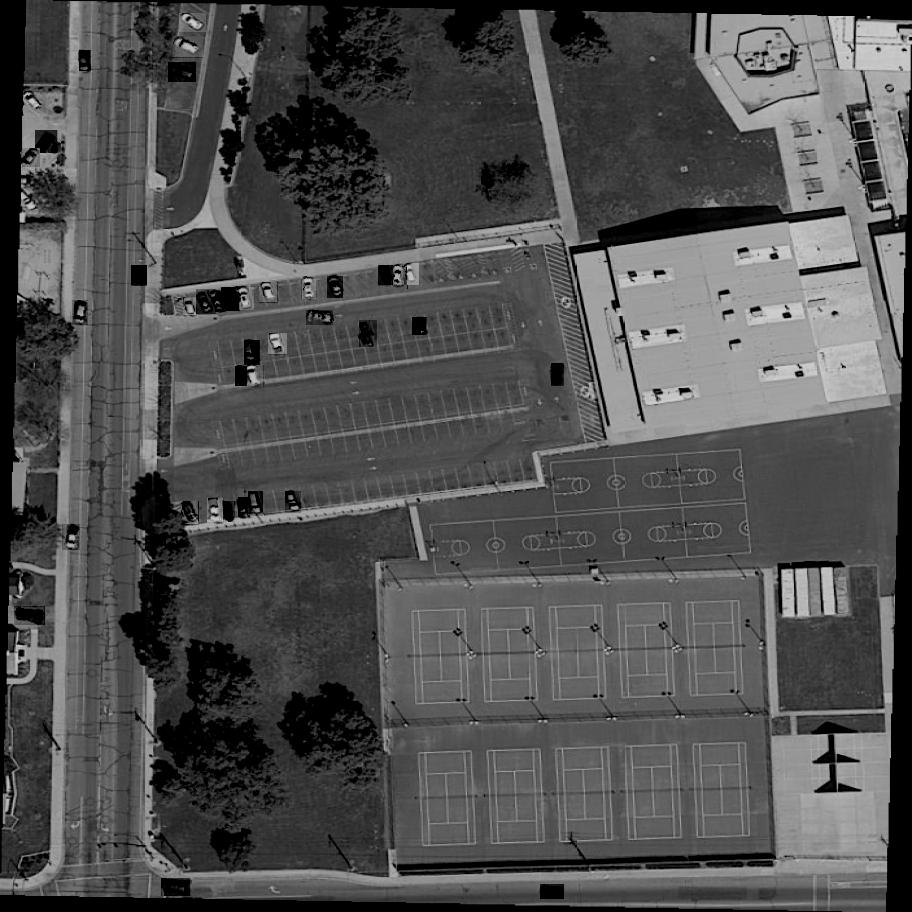small-vehicle: (172, 36, 203, 61), (14, 605, 46, 626), (179, 13, 207, 35), (162, 877, 192, 897), (35, 129, 58, 155), (24, 90, 47, 115), (169, 63, 196, 84), (196, 290, 217, 315), (222, 285, 241, 312), (235, 285, 254, 311), (62, 524, 80, 551), (267, 333, 287, 357), (360, 320, 377, 348), (181, 501, 200, 526), (207, 498, 225, 524), (306, 311, 334, 327), (248, 491, 265, 517), (259, 282, 279, 304), (209, 291, 227, 314), (392, 266, 409, 290), (286, 489, 302, 514), (245, 340, 261, 365), (23, 149, 41, 171), (248, 366, 266, 388), (541, 884, 564, 901), (327, 276, 344, 299), (73, 301, 89, 325), (131, 265, 148, 287), (405, 264, 422, 286), (183, 296, 199, 317), (378, 266, 394, 287), (224, 500, 237, 523), (412, 317, 427, 336), (302, 279, 316, 299), (238, 497, 250, 519), (235, 366, 248, 386), (551, 364, 563, 385), (80, 50, 90, 71)
